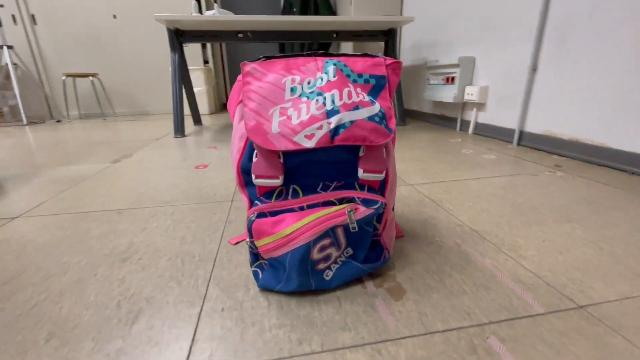Backpack: (222, 43, 416, 305)
Stool: (55, 68, 119, 126)
